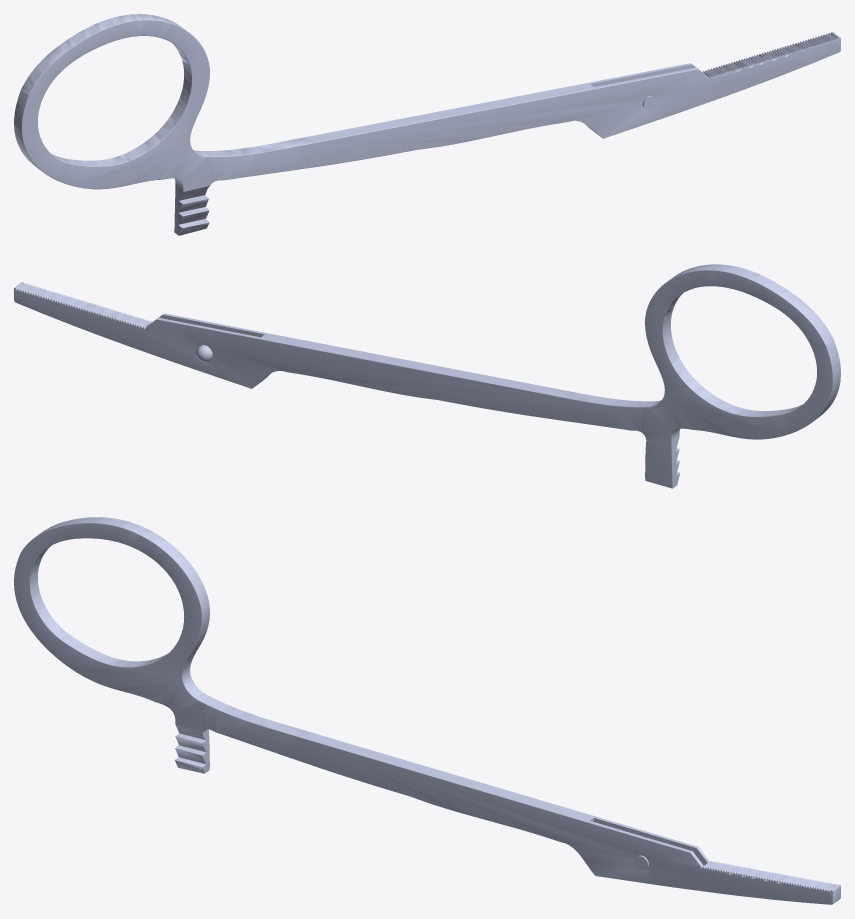
File: SURGERY_CLAMP_ASSY_1.dae
The picture shows the model from 3 angles, top to bottom: view 1: azimuth 30°, elevation 25°; view 2: azimuth 150°, elevation 25°; view 3: azimuth 330°, elevation 25°; orthographic projection.
Visible parts, largest first — view 1: node0; view 2: node0; view 3: node0.
Part boxes in pixels (bbox=[...]): node0: bbox=[14, 14, 840, 235]; node0: bbox=[14, 264, 840, 488]; node0: bbox=[14, 517, 840, 904].
Bounding box in the file's own units: 0.1283 × 0.0349 × 0.00361.
